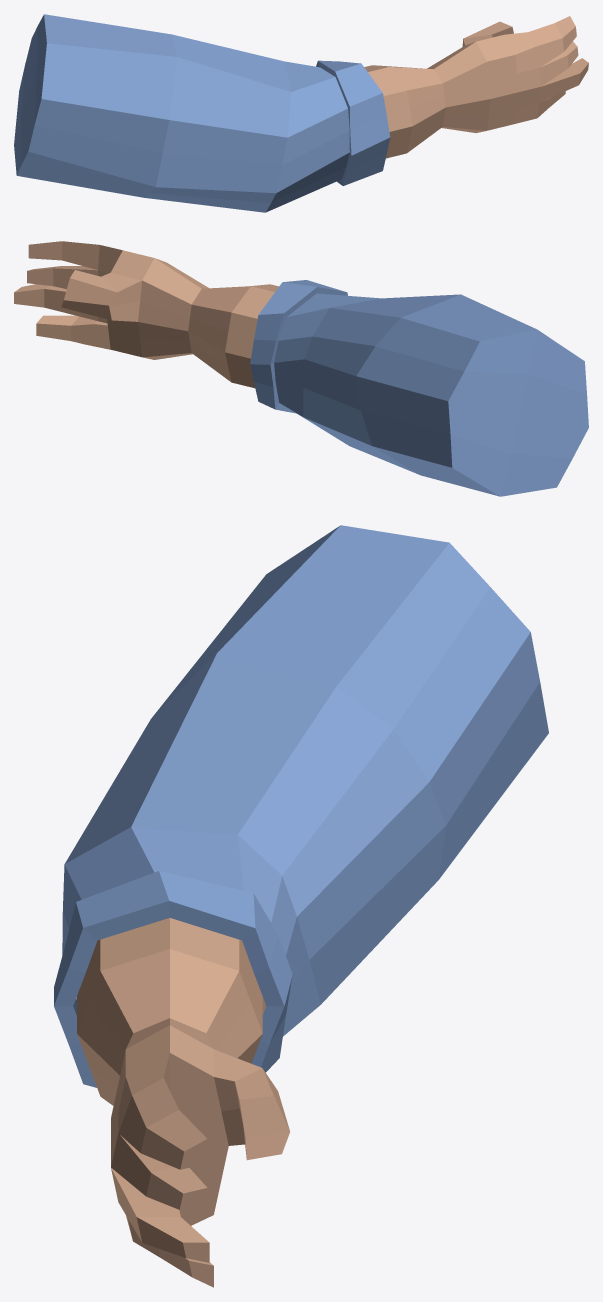
File: Hand_1.fbx
3 renders of one model, top to bottom at view 1: azimuth 30°, elevation 25°; view 2: azimuth 150°, elevation 25°; view 3: azimuth 270°, elevation 25°, orthographic. The views are drawn at different scales.
Parts seen in each view (by area): view 1: Cube.001, Cube; view 2: Cube.001, Cube; view 3: Cube.001, Cube.
Part boxes in pixels (x1,y1,x2,y2): Cube.001: (14,14,390,212); Cube: (364,16,588,158); Cube.001: (250,280,588,496); Cube: (14,241,278,388); Cube.001: (54,525,548,1087); Cube: (77,918,289,1287).
Size of the model in its own units: 1112 by 351 by 446.
